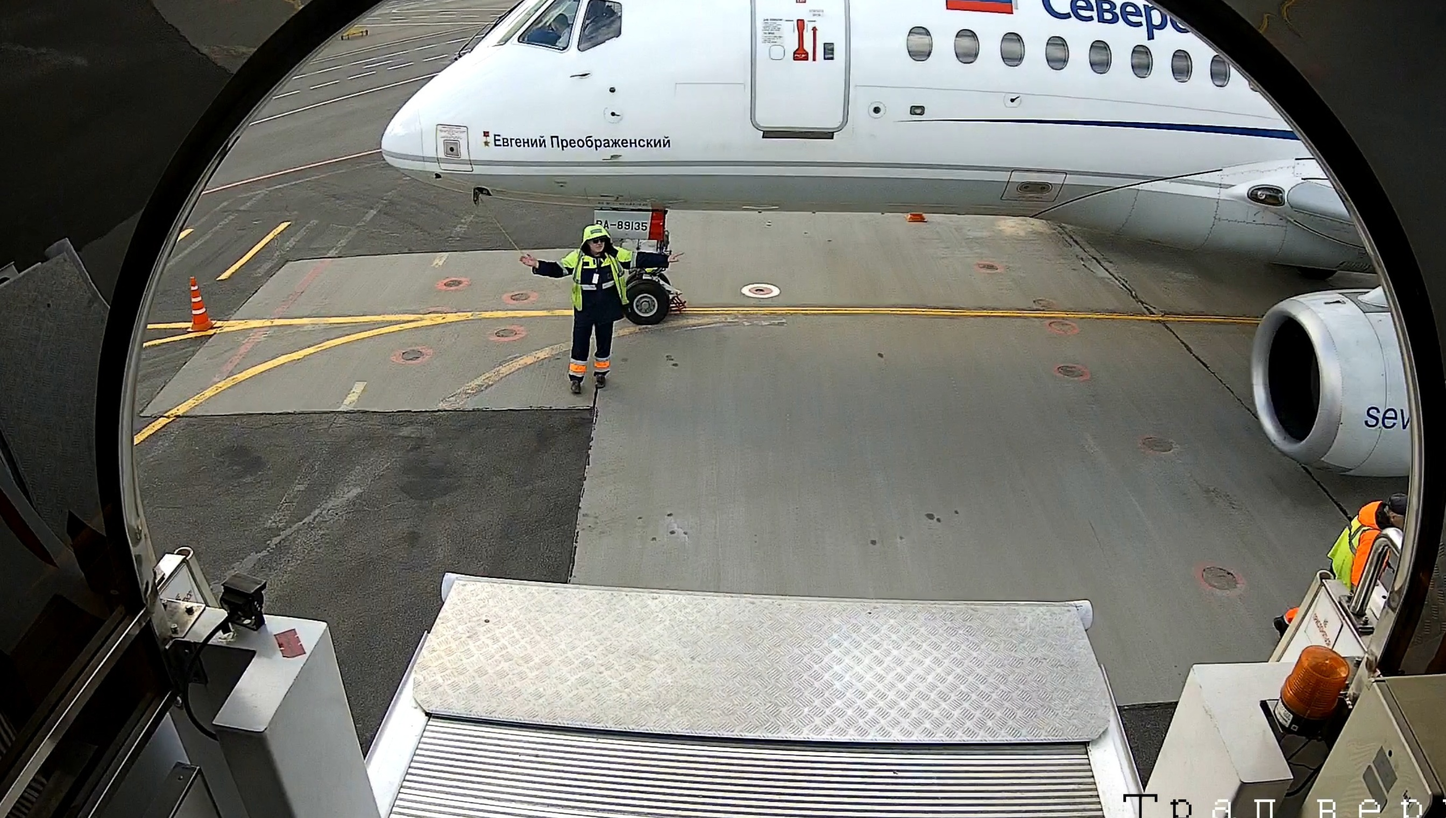boots: (664, 285, 697, 320)
wheels: (626, 280, 671, 325)
